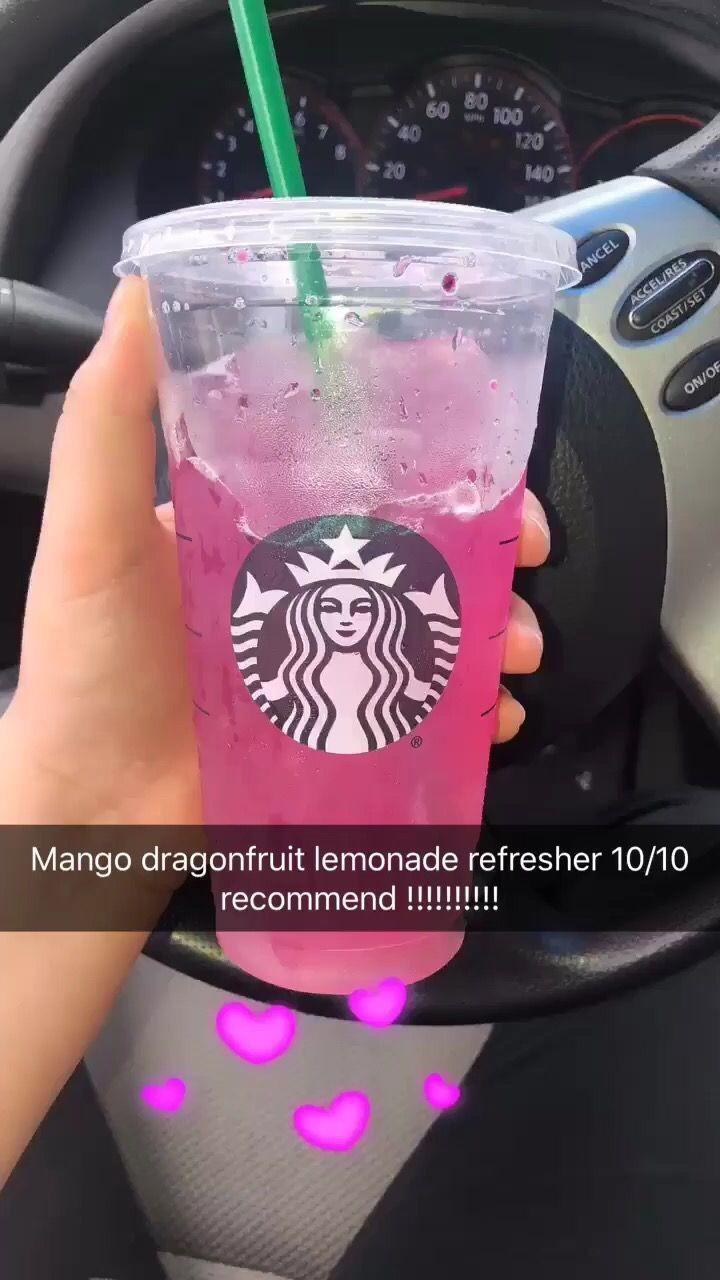cup-disposable: (113, 186, 580, 996)
